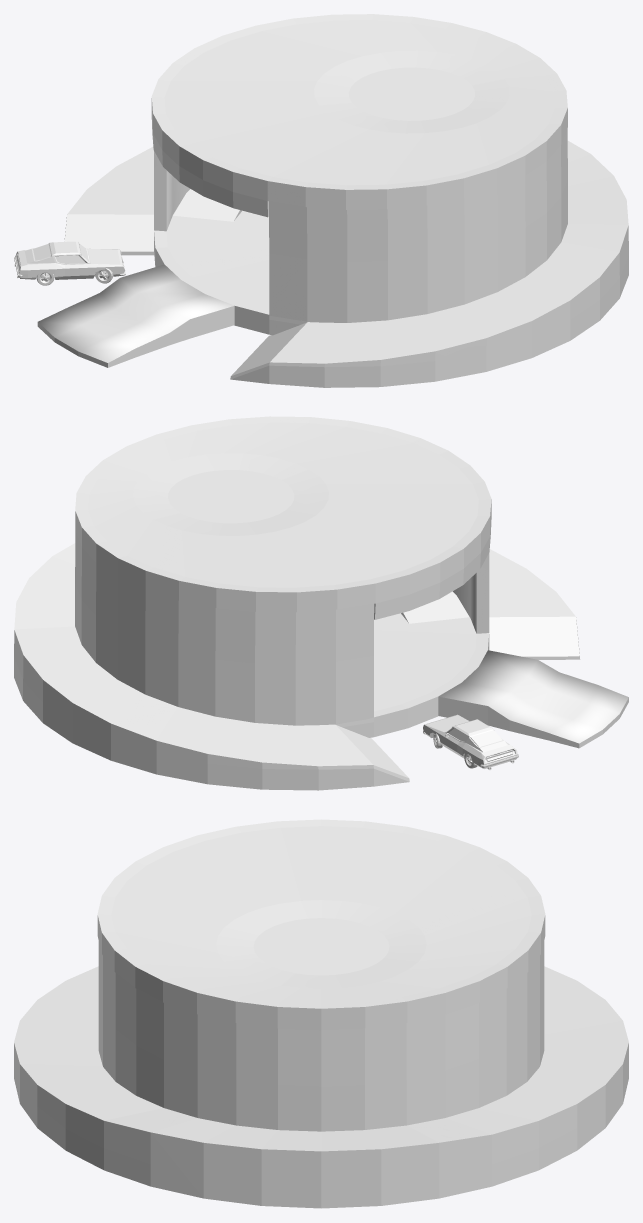
Rendered from lasersharks_lab_emit.glb.
3 views of the same model, one above another, from view 1: azimuth 30°, elevation 25°; view 2: azimuth 150°, elevation 25°; view 3: azimuth 270°, elevation 25° (orthographic). The views are drawn at different scales.
Visible parts, largest first — view 1: lasershark_lab.001; view 2: lasershark_lab.001; view 3: lasershark_lab.001.
Part boxes in pixels (x1,y1,x2,y2): lasershark_lab.001: (14, 14, 628, 387); lasershark_lab.001: (14, 416, 628, 790); lasershark_lab.001: (14, 819, 628, 1208).
Bounding box in the file's own units: 33.38 × 9.64 × 30.44.
Materials: 3 (3 with a texture image).
